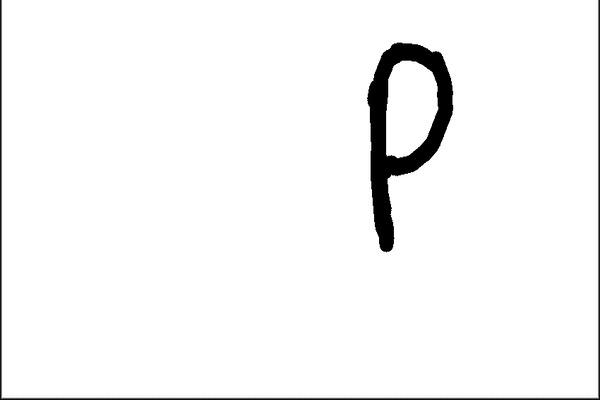P: (351, 29, 468, 259)
